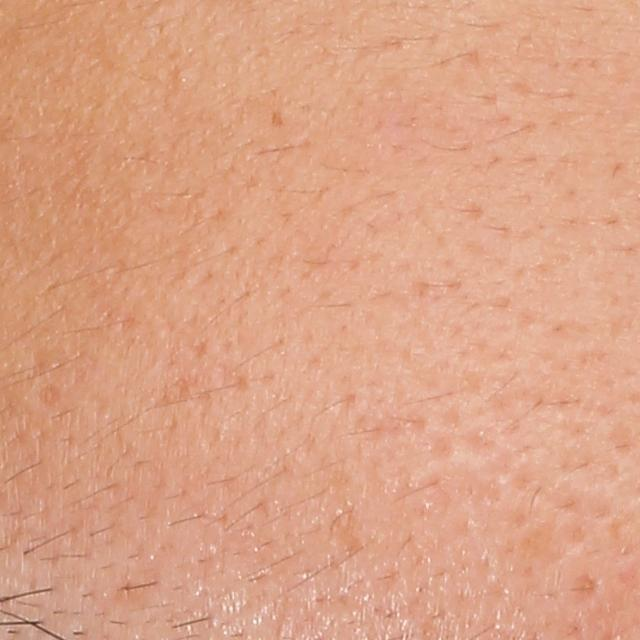atrophic_scar: (37, 379, 66, 410)
comedo: (174, 69, 190, 85)
